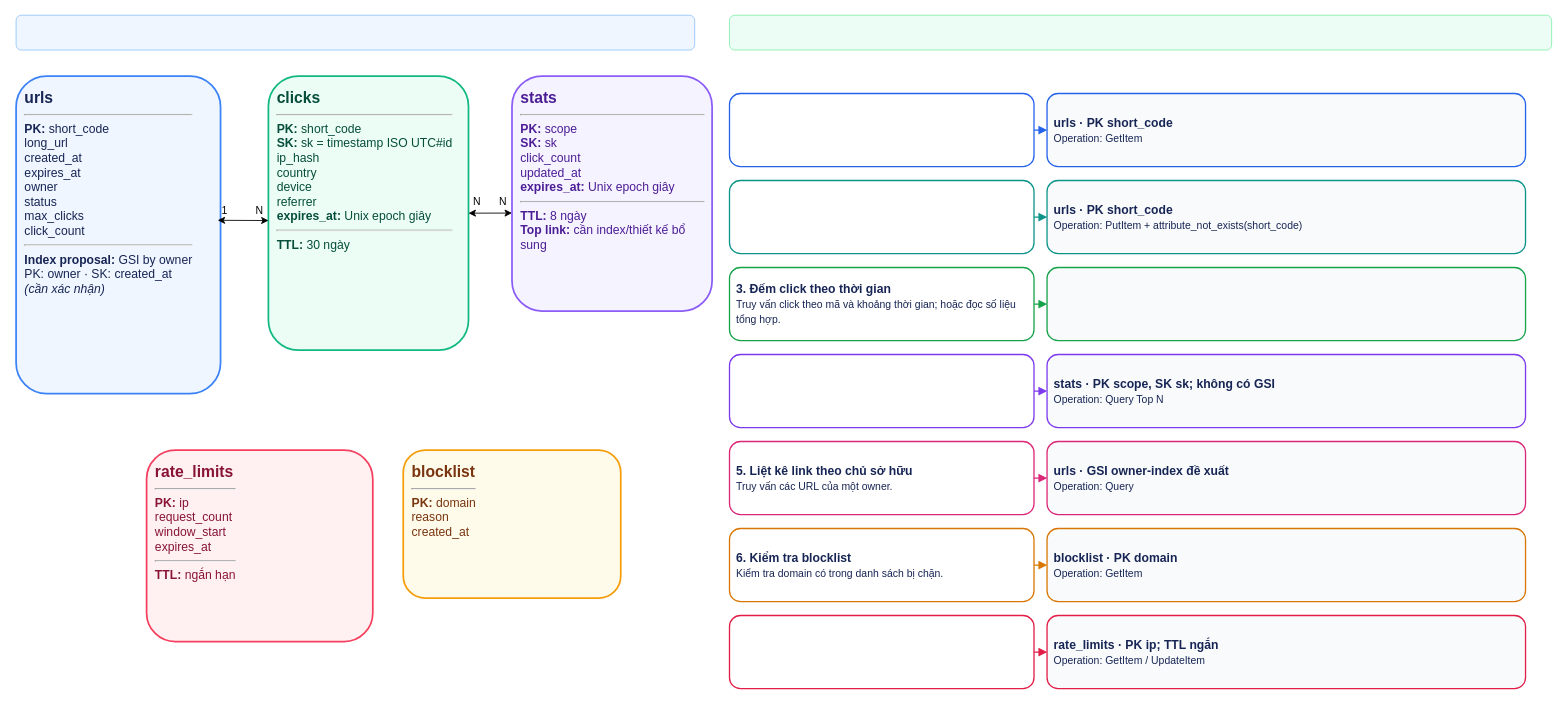
The diagram is 1567 pixels wide and 705 high, and some of its shapes have lost their labels. The box of each missing label's shape, as (x1, y1, x2, y2) in pixels:
1. Redirect theo mã Lấy long_url và kiểm tra status / expires_at.: (728, 92, 1034, 167)
1. THIẾT KẾ CÁC BẢNG DYNAMODB: (15, 14, 695, 50)
2. Kiểm tra trùng mã Tạo mã chỉ khi chưa tồn tại.: (728, 179, 1034, 254)
2. ÁNH XẠ ACCESS PATTERN → TABLE / INDEX: (729, 14, 1552, 50)
4. Top link Xếp hạng link theo lượt click; index cần được thiết kế/chốt.: (728, 353, 1034, 428)
7. Đếm request theo IP Đọc/cập nhật bộ đếm trong cửa sổ thời gian ngắn.: (728, 614, 1034, 689)
clicks · PK short_code, SK sk stats · PK scope, SK sk Operation: Query: (1046, 266, 1526, 341)
